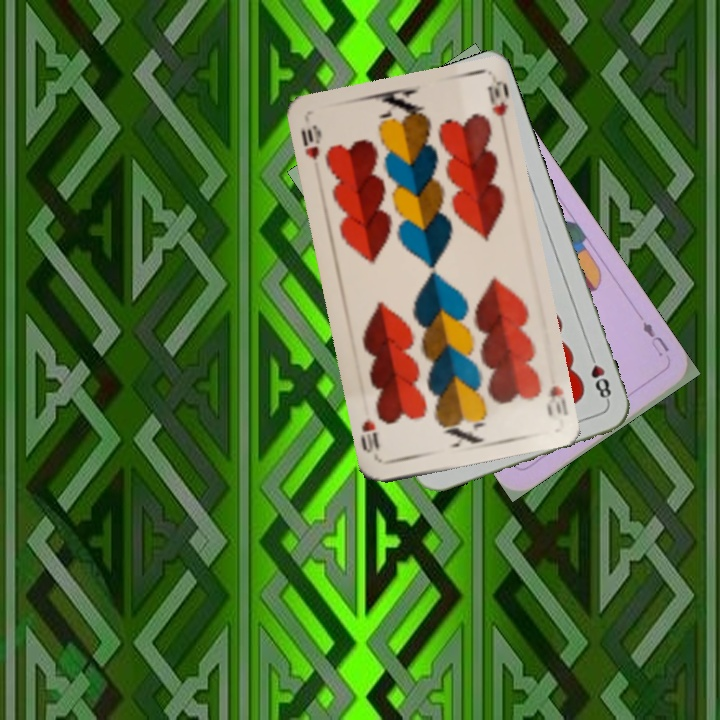EU: (638, 317, 672, 360)
H10: (297, 121, 324, 163), (542, 381, 570, 420)
H8: (585, 348, 614, 405)
